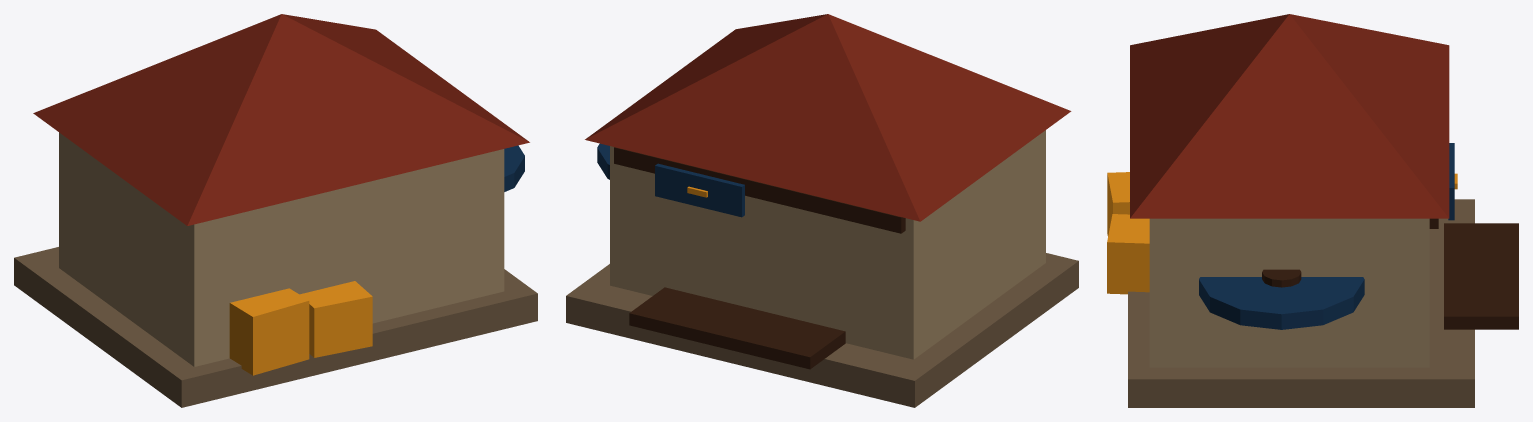
File: Mill_authoring.obj
3 views of the same model, side by side, from view 1: azimuth 30°, elevation 25°; view 2: azimuth 150°, elevation 25°; view 3: azimuth 270°, elevation 25° (orthographic). The views are drawn at different scales.
Parts seen in each view (by area): view 1: Roof, MillHouseWalls, Foundation, GrainSackLeft, GrainSackRight, MillWheel; view 2: Roof, MillHouseWalls, Foundation, LoadingPlatform, TimberBeam, Sign; view 3: Roof, MillHouseWalls, Foundation, LoadingPlatform, MillWheel, GrainSackRight, GrainSackLeft, MillWheelHub, Sign.
Boxes of the visible parts, x1=… form: Roof: x1=33, y1=14, x2=529, y2=225; MillHouseWalls: x1=59, y1=132, x2=504, y2=366; Foundation: x1=14, y1=247, x2=537, y2=407; GrainSackLeft: x1=229, y1=288, x2=309, y2=375; GrainSackRight: x1=299, y1=281, x2=372, y2=357; MillWheel: x1=504, y1=145, x2=524, y2=191; Roof: x1=585, y1=14, x2=1071, y2=221; MillHouseWalls: x1=610, y1=130, x2=1045, y2=359; Foundation: x1=566, y1=253, x2=1078, y2=407; LoadingPlatform: x1=629, y1=287, x2=845, y2=369; TimberBeam: x1=614, y1=147, x2=905, y2=233; Sign: x1=655, y1=163, x2=744, y2=217; Roof: x1=1130, y1=14, x2=1449, y2=218; MillHouseWalls: x1=1149, y1=218, x2=1429, y2=367; Foundation: x1=1128, y1=199, x2=1474, y2=407; LoadingPlatform: x1=1444, y1=223, x2=1518, y2=329; MillWheel: x1=1199, y1=277, x2=1364, y2=329; GrainSackRight: x1=1107, y1=214, x2=1149, y2=294; GrainSackLeft: x1=1107, y1=172, x2=1129, y2=236; MillWheelHub: x1=1262, y1=269, x2=1301, y2=287; Sign: x1=1448, y1=143, x2=1454, y2=220.
Size of the model in its own units: 6.17 by 4.25 by 5.22.
